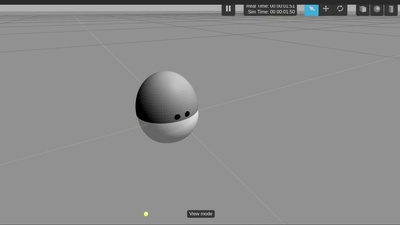mira_robot: (134, 70, 199, 143)
